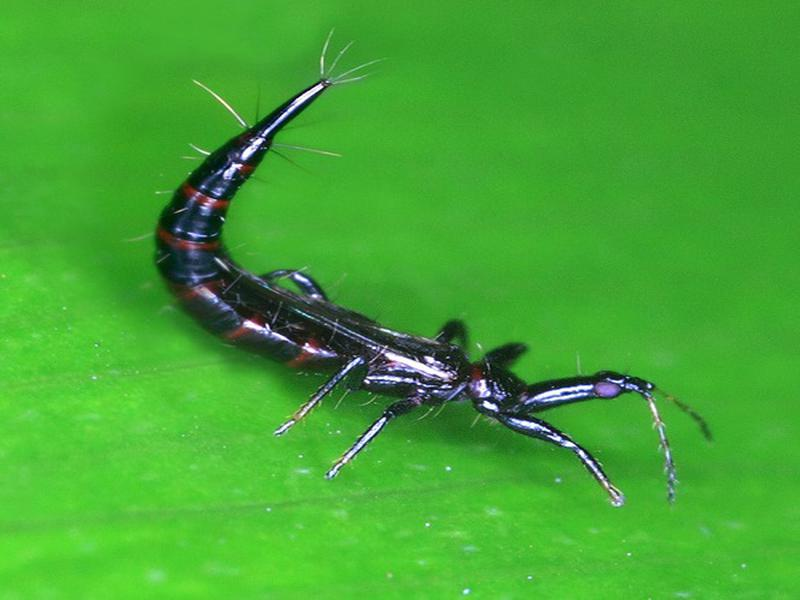Thrips: (134, 54, 714, 512)
